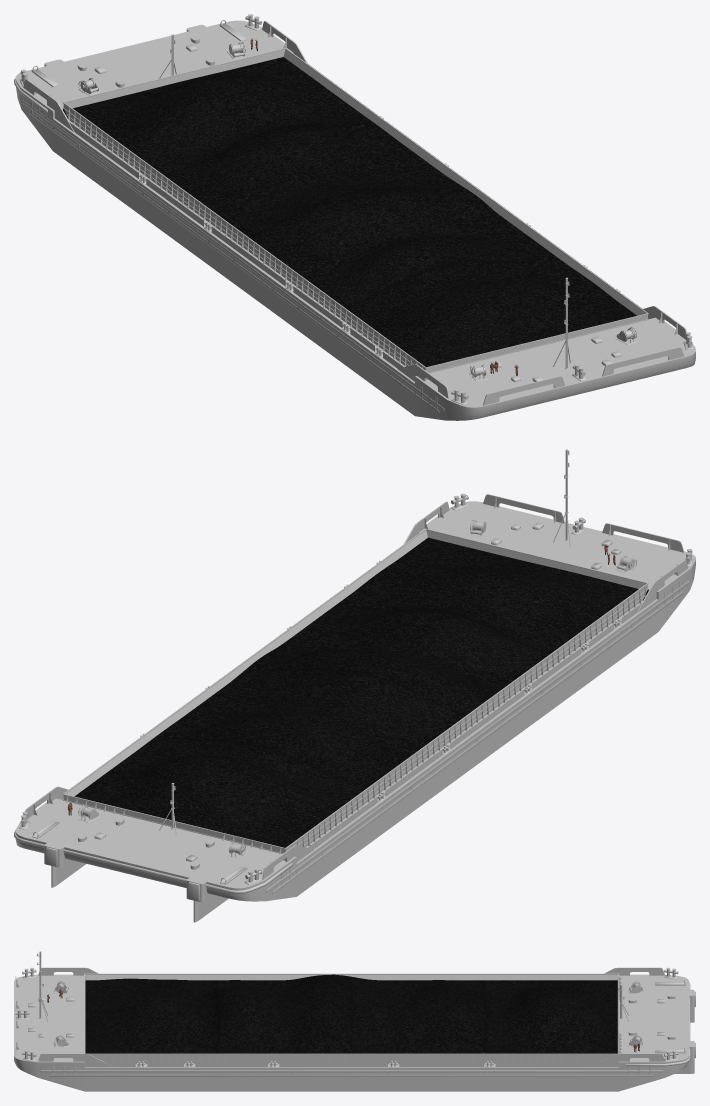
File: kapal tongkang rev2.fbx
3 renders of one model, top to bottom at view 1: azimuth 30°, elevation 25°; view 2: azimuth 150°, elevation 25°; view 3: azimuth 270°, elevation 25°, orthographic. The views are drawn at different scales.
Visible parts, largest first — view 1: charcoal, barge_body; view 2: charcoal, barge_body; view 3: barge_body, charcoal.
Part boxes in pixels (left/top/right/bottom): charcoal: left=73, top=57, right=636, bottom=367; barge_body: left=14, top=14, right=695, bottom=420; charcoal: left=74, top=537, right=638, bottom=847; barge_body: left=14, top=449, right=695, bottom=922; barge_body: left=14, top=951, right=695, bottom=1091; charcoal: left=85, top=974, right=617, bottom=1053.
Bounding box in the file's own units: 3989 × 12964 × 2014.
